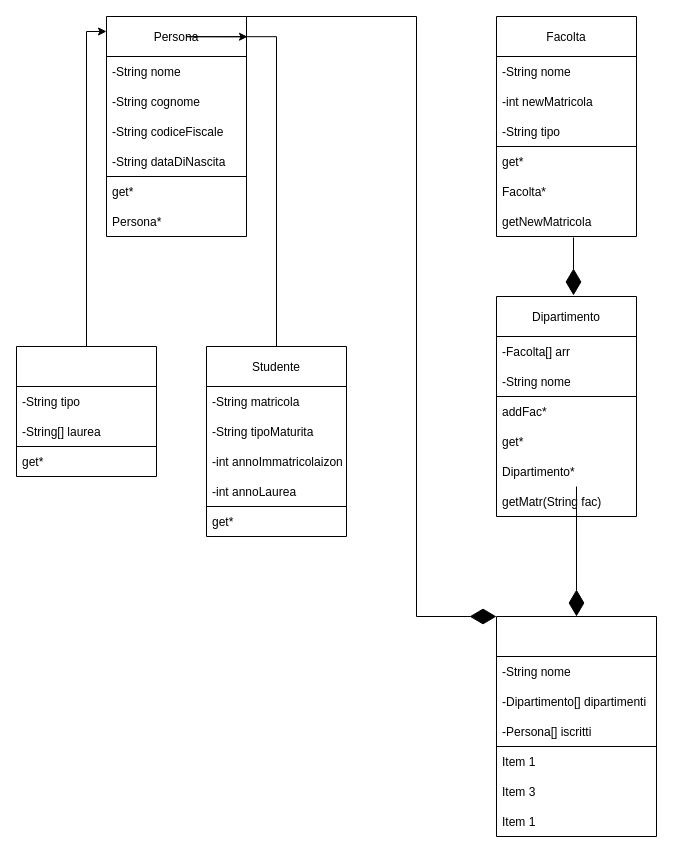
Image size: 673x853. Some labels were removed from this diagram. Each missing label, with the box of its shape:
Docente: (16, 346, 156, 476)
Universita: (496, 616, 656, 836)
